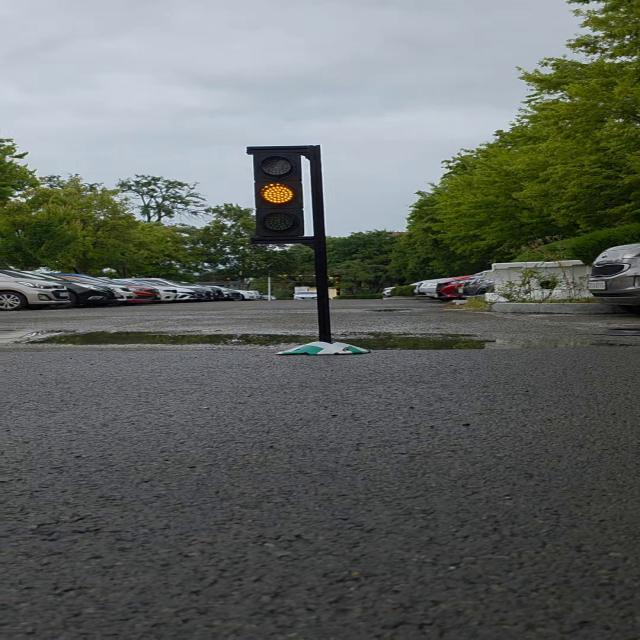yellow: (243, 147, 317, 245)
